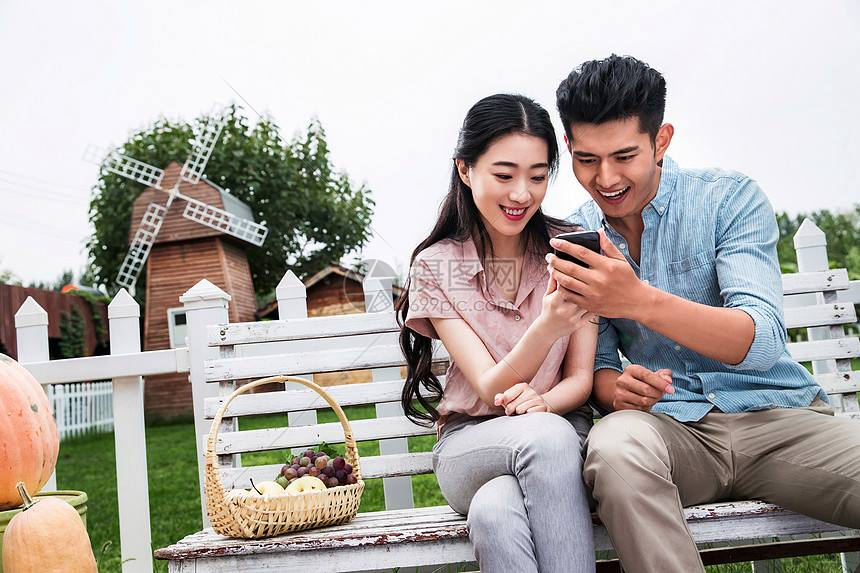reading: (545, 226, 643, 322)
